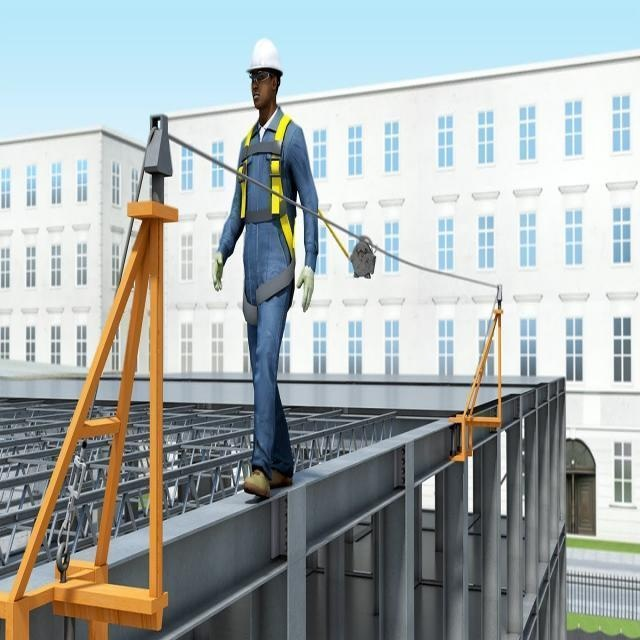Arnes_seguridad: (236, 112, 297, 328)
